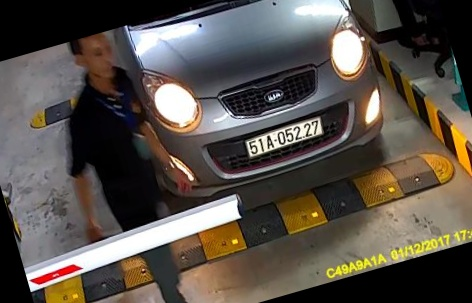plate: (244, 112, 329, 160)
